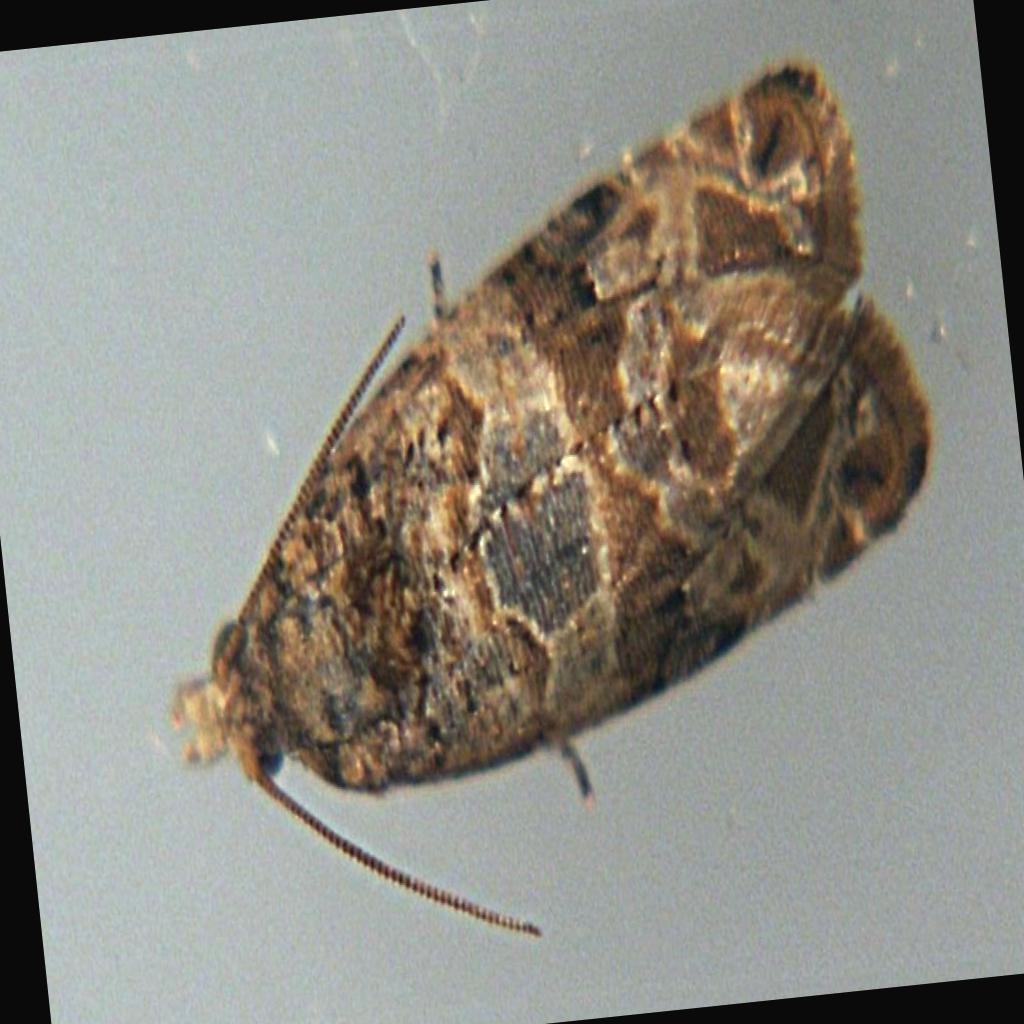grape_moth: (165, 56, 940, 941)
